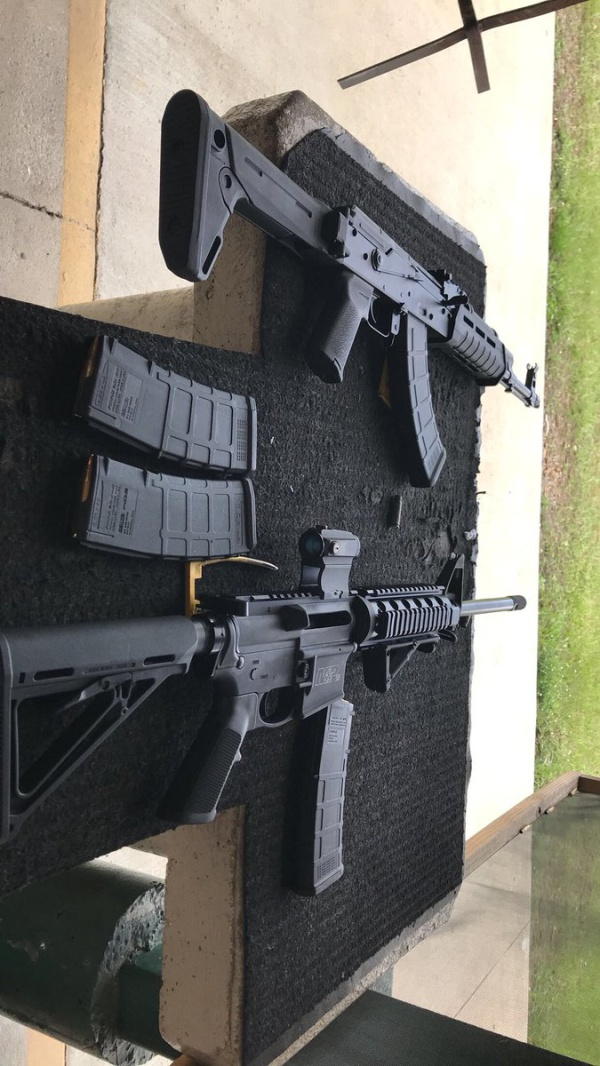ak47: (11, 557, 527, 892), (161, 90, 542, 462)
